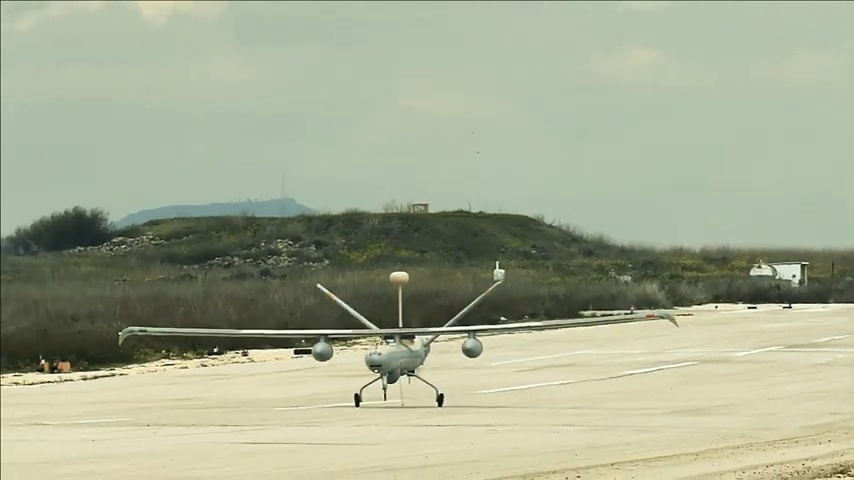military drone: (118, 270, 679, 407)
